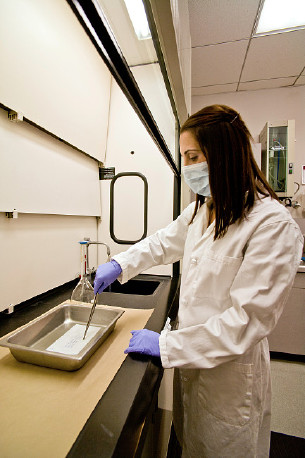face_mask: (179, 128, 213, 197)
